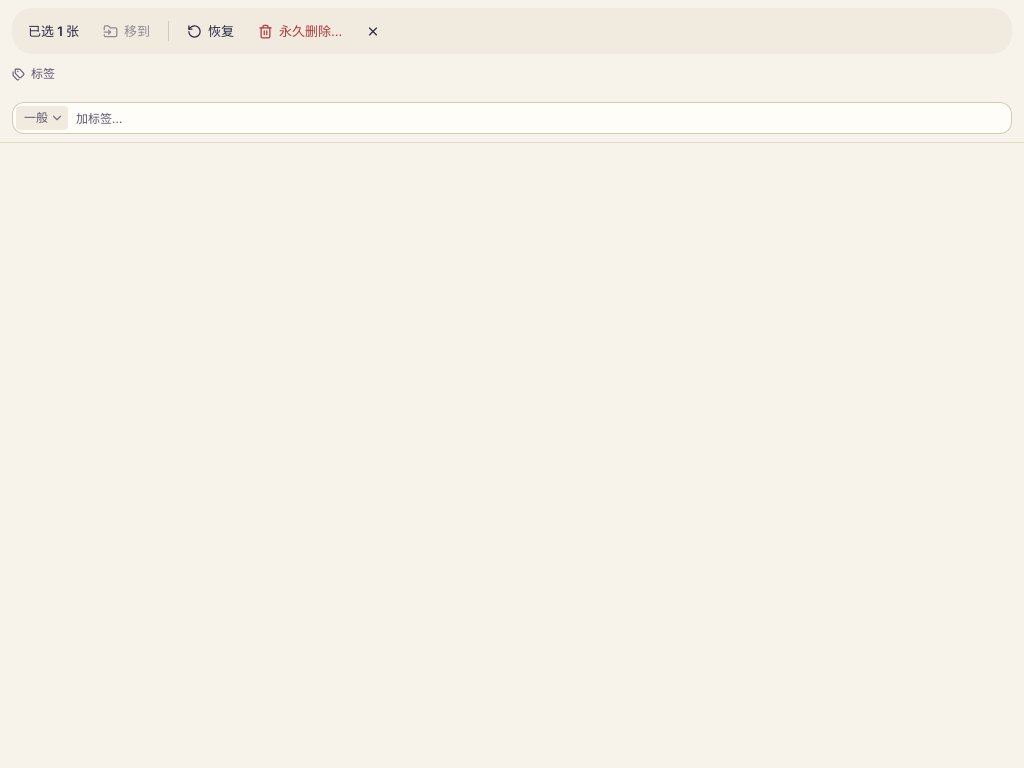
Scenario: 永久删除确认使旧详情请求失效，删除后迟到的缺失错误不进入全局提示
The width and height of the screenshot is (1024, 768).
Click the button "永久删除…": (300, 31) [248,16,352,46]
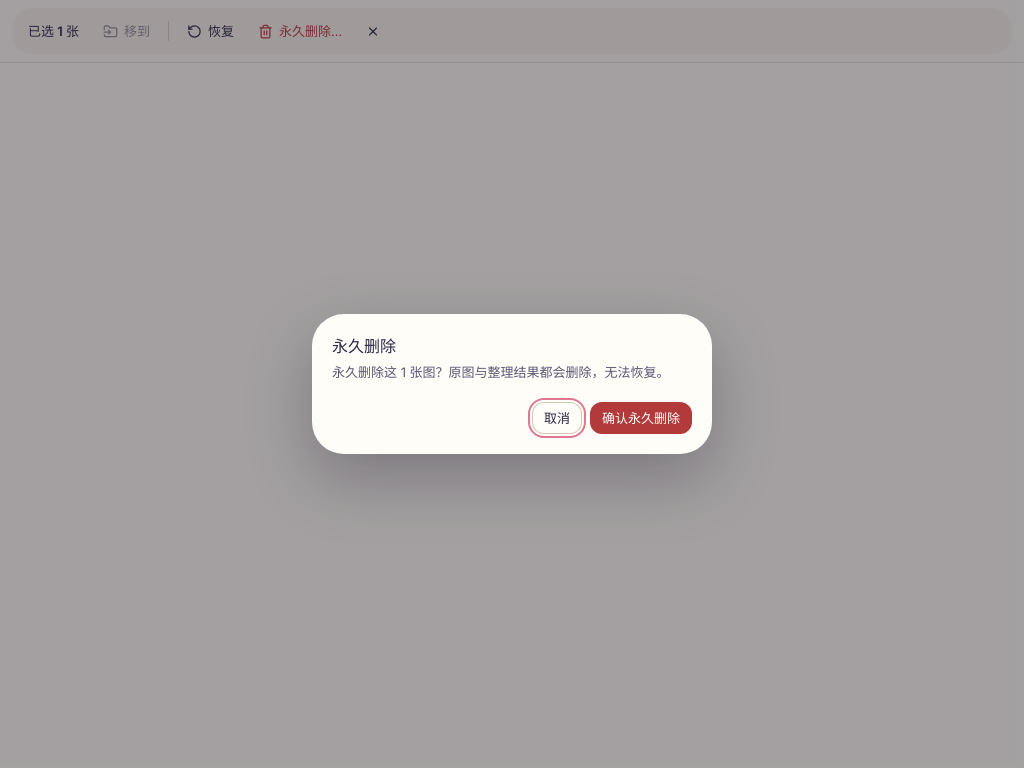
Now the button "确认永久删除" is shown, box [590,402,692,434]
